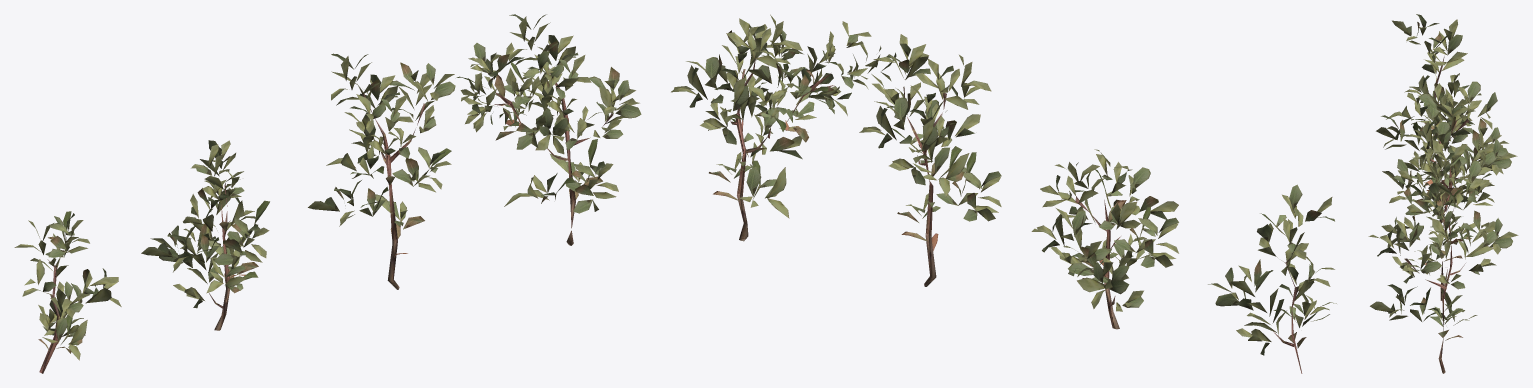
The model's file is shrub_04.glb.
The picture shows the model from 3 angles, left to right: view 1: azimuth 30°, elevation 25°; view 2: azimuth 150°, elevation 25°; view 3: azimuth 270°, elevation 25°; orthographic projection. The views are drawn at different scales.
Visible parts, largest first — view 1: shrub_04; view 2: shrub_04; view 3: shrub_04.
Part boxes in pixels (left/top/right/bottom): shrub_04: left=14, top=14, right=641, bottom=373; shrub_04: left=671, top=14, right=1336, bottom=373; shrub_04: left=1368, top=14, right=1518, bottom=373.
Bounding box in the file's own units: 0.5837 × 0.2192 × 0.1461.
Materials: 1 (1 with a texture image).
